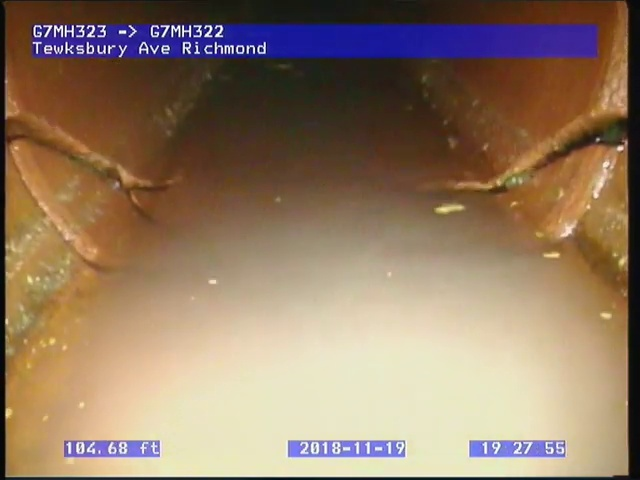crack: (4, 96, 181, 230), (457, 108, 628, 197)
